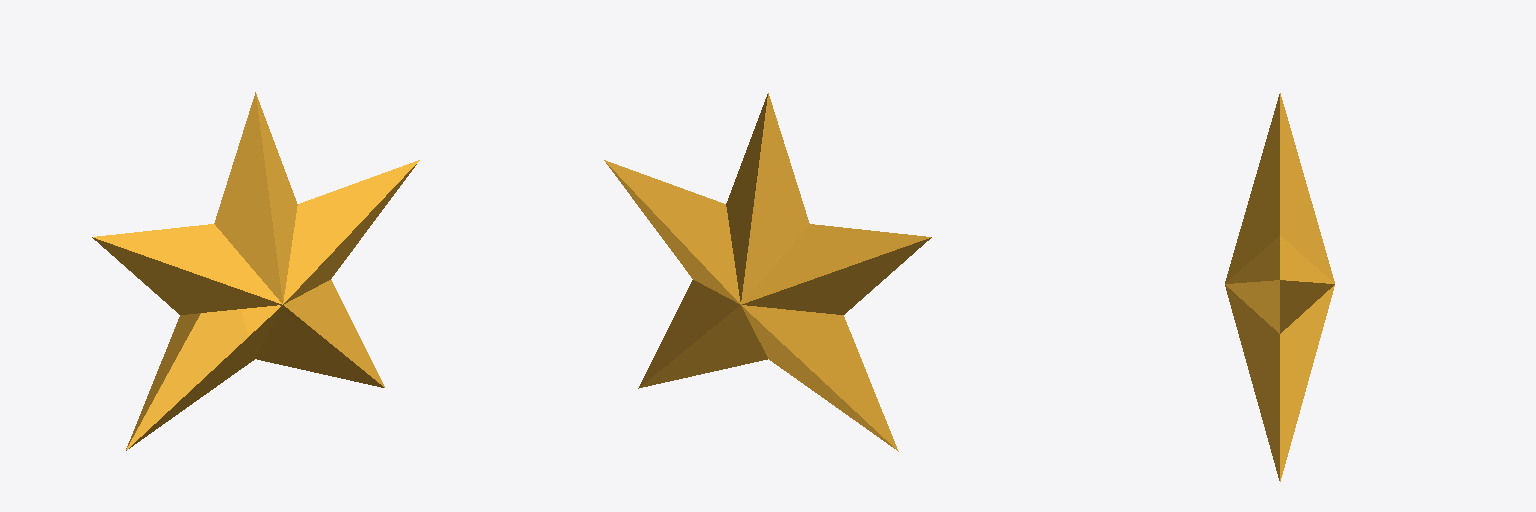
3 views of the same model, side by side, from view 1: azimuth 30°, elevation 25°; view 2: azimuth 150°, elevation 25°; view 3: azimuth 270°, elevation 25° (orthographic).
Parts seen in each view (by area): view 1: Star:polySurface1; view 2: Star:polySurface1; view 3: Star:polySurface1.
Boxes of the visible parts, <box> form: Star:polySurface1: <box>92,92,419,450</box>; Star:polySurface1: <box>604,93,931,451</box>; Star:polySurface1: <box>1225,93,1334,481</box>.
Size of the model in its own units: 5.36 by 5.11 by 1.56.
Materials: 1 (1 with a texture image).